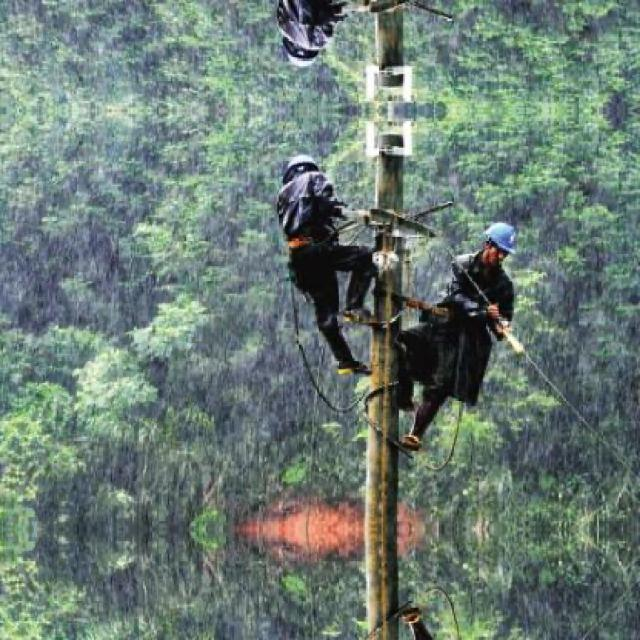con casco: (459, 204, 547, 290), (276, 153, 340, 200)
